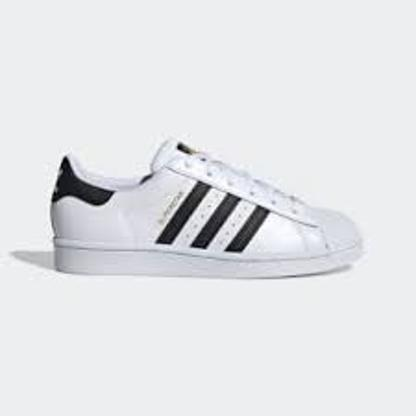not trash: (46, 138, 368, 281)
